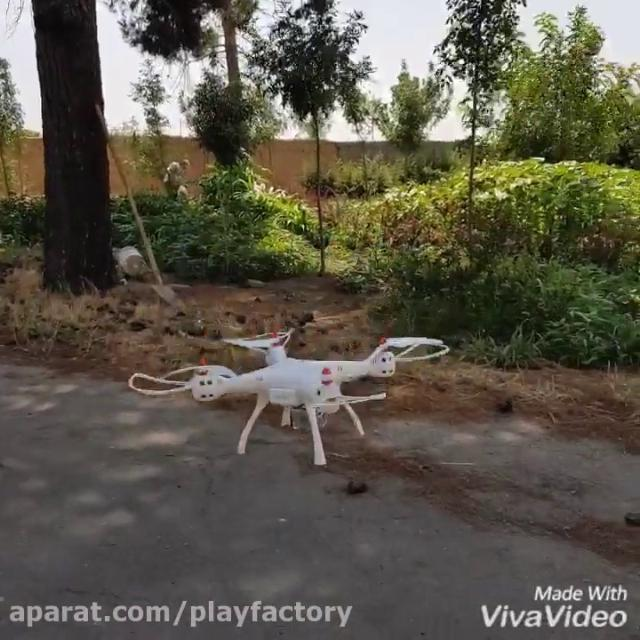drone: (128, 326, 450, 466)
